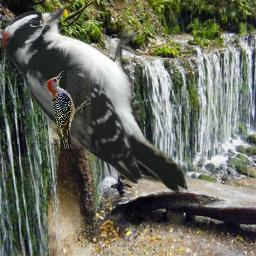Woodpecker: (2, 6, 188, 194), (44, 70, 91, 149)
